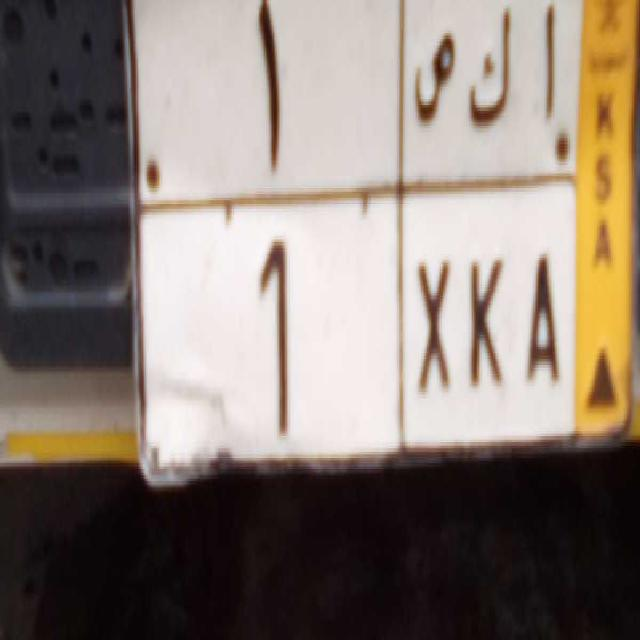license_plate: (138, 177, 577, 464)
